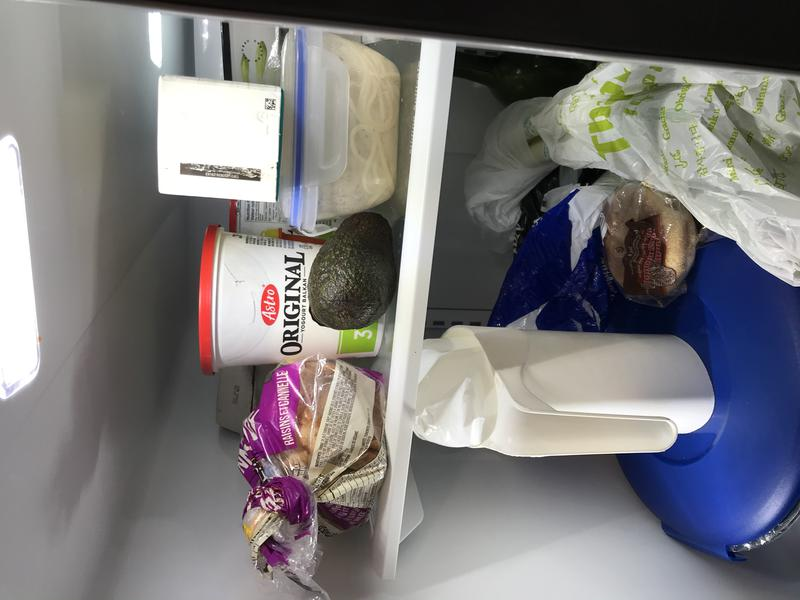avocado: (301, 204, 397, 335)
